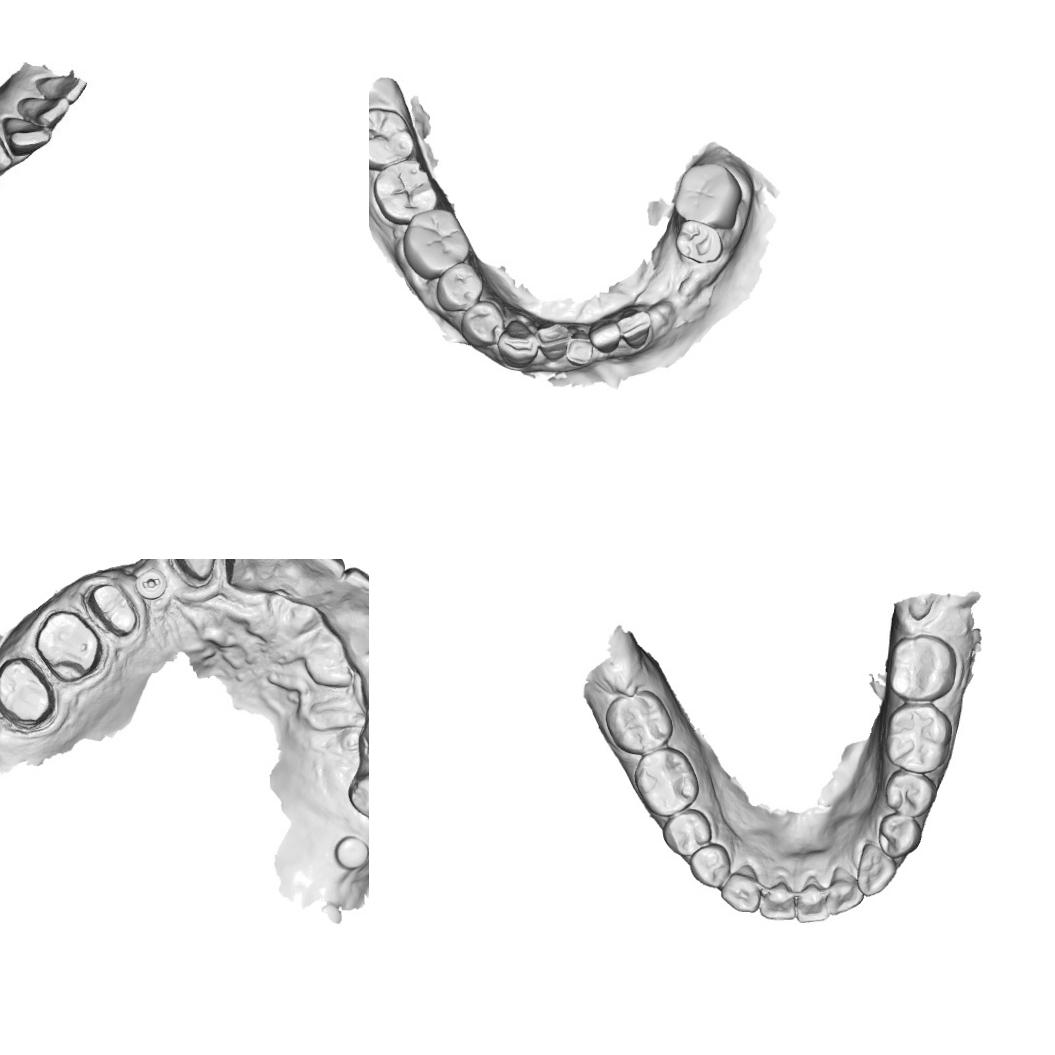canine: (854, 840, 898, 898), (718, 862, 764, 914), (496, 317, 538, 369), (0, 128, 13, 182)
crown: (33, 608, 104, 684), (0, 653, 57, 732), (88, 581, 139, 644), (172, 559, 221, 584)
implant: (332, 834, 369, 870)
implant_minus: (132, 566, 170, 601)
incisor: (277, 559, 349, 604), (0, 116, 52, 157), (338, 564, 369, 629), (824, 867, 864, 917), (15, 95, 70, 130), (225, 559, 284, 591), (32, 73, 88, 106), (757, 880, 798, 922), (794, 878, 831, 924), (616, 307, 652, 350), (535, 321, 570, 363), (586, 318, 622, 355), (564, 328, 596, 367)
molar: (632, 744, 702, 819), (883, 702, 954, 775), (885, 632, 959, 702), (369, 156, 442, 226), (400, 208, 469, 282), (672, 160, 744, 230), (603, 688, 676, 756), (369, 105, 417, 173)
premolar: (660, 805, 713, 860), (434, 259, 486, 315), (881, 766, 939, 816), (672, 218, 724, 266), (686, 841, 733, 892), (458, 298, 504, 348), (876, 811, 922, 860), (344, 772, 369, 833)
